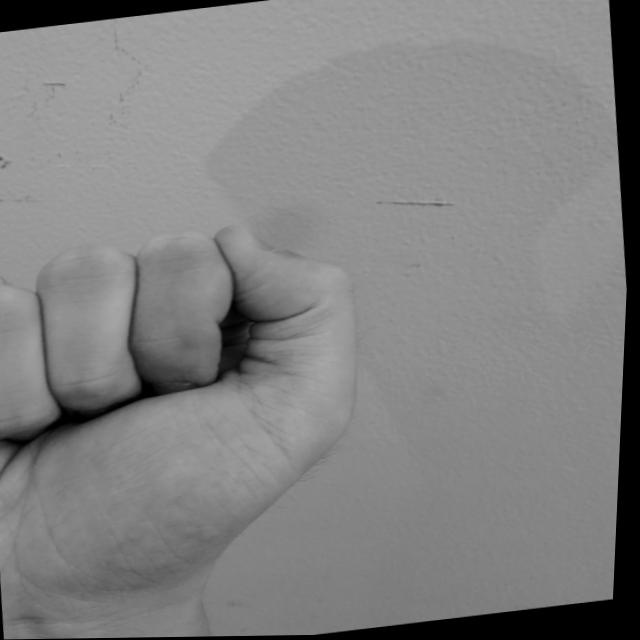A: (0, 200, 408, 638)
